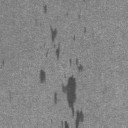red iron: (61, 76, 84, 128), (50, 26, 58, 43), (76, 58, 83, 71), (55, 42, 60, 60), (40, 69, 46, 82), (61, 121, 70, 128), (43, 4, 48, 13), (54, 92, 57, 104), (69, 59, 72, 66), (84, 28, 86, 34)
